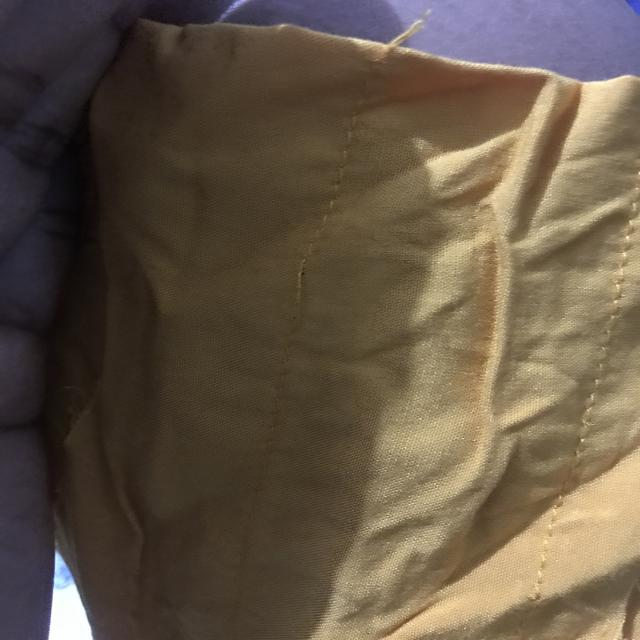good: (328, 136, 348, 209)
skip: (285, 238, 322, 320)
